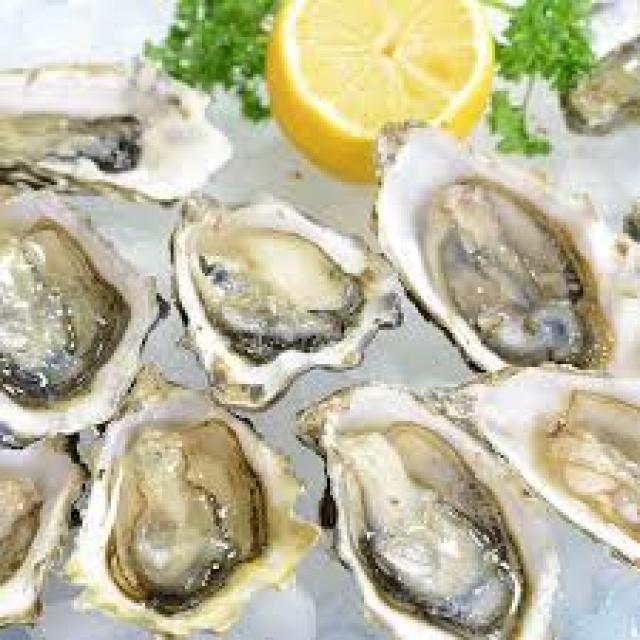lemon: (267, 0, 492, 148)
oysters: (370, 144, 612, 362), (320, 384, 514, 636), (93, 402, 304, 618), (167, 195, 396, 380), (0, 202, 161, 427), (458, 368, 640, 526), (0, 58, 221, 186)
